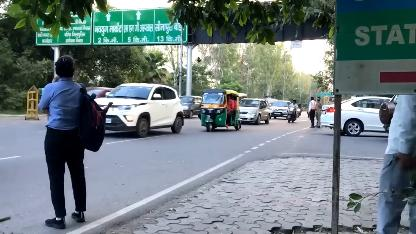auto-rikshaw: (198, 86, 244, 132)
bike: (288, 105, 300, 125)
car: (93, 82, 187, 138), (268, 98, 290, 119)
